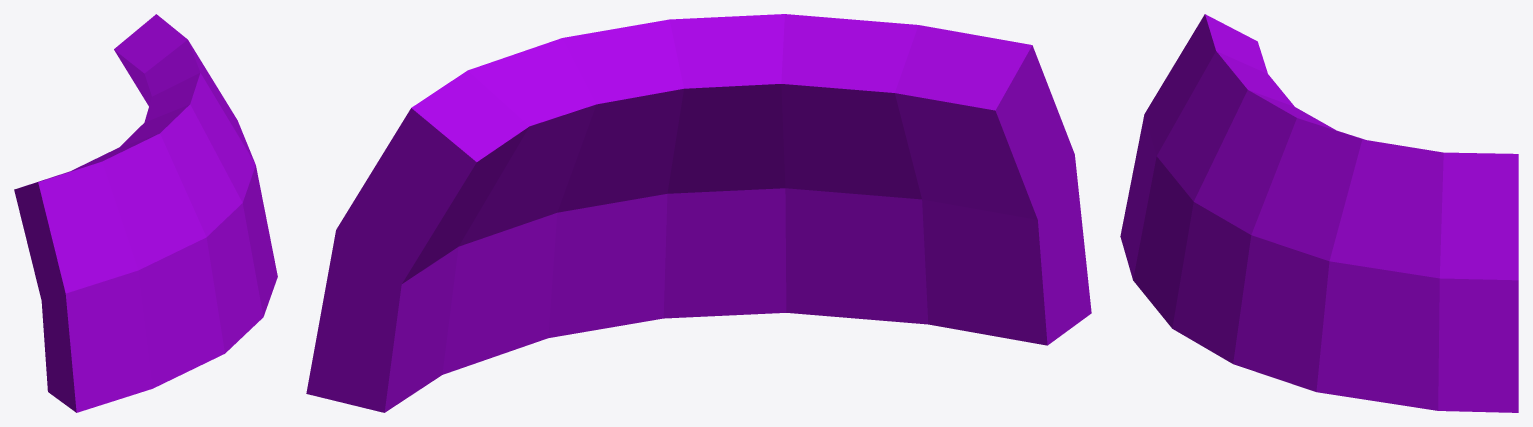
File: Ruina2.fbx
The picture shows the model from 3 angles, left to right: view 1: azimuth 30°, elevation 25°; view 2: azimuth 150°, elevation 25°; view 3: azimuth 270°, elevation 25°; orthographic projection. The views are drawn at different scales.
Parts seen in each view (by area): view 1: Ruina2; view 2: Ruina2; view 3: Ruina2.
Part boxes in pixels (x1,y1,x2,y2): Ruina2: [14, 14, 277, 412]; Ruina2: [306, 14, 1091, 412]; Ruina2: [1120, 14, 1518, 412].
Size of the model in its own units: 2215 by 1302 by 2112.
